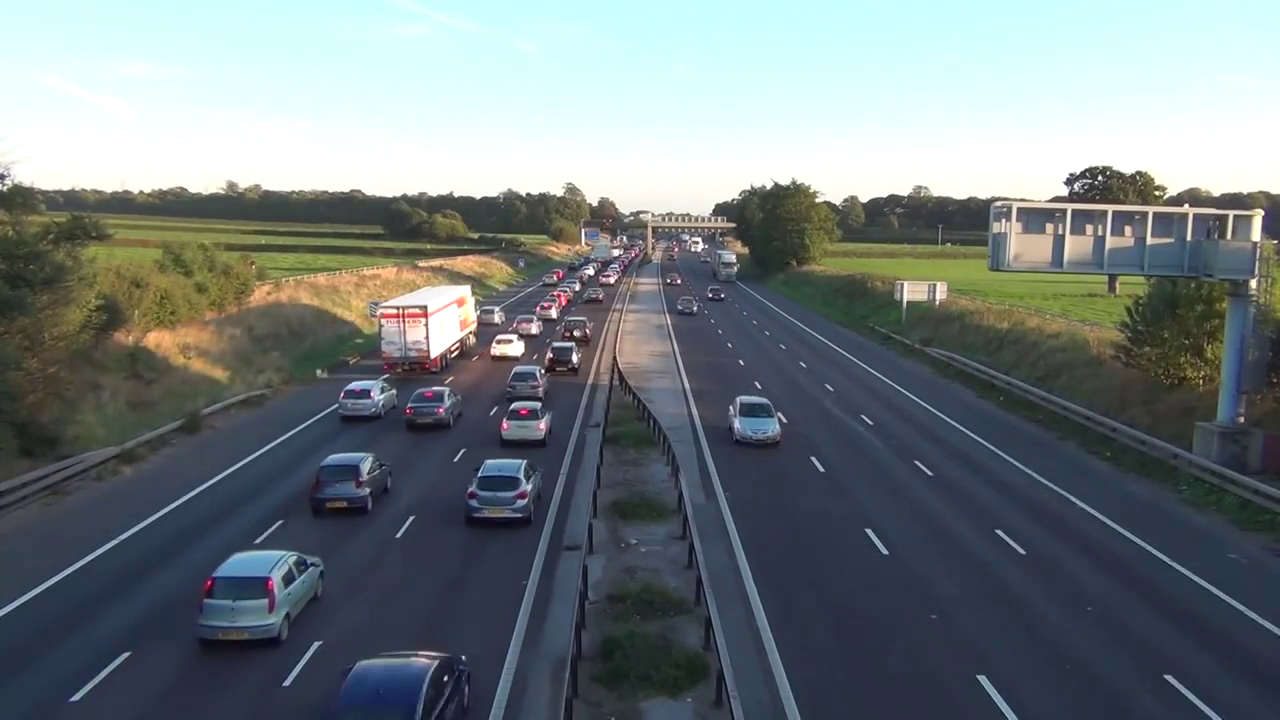Car: (180, 539, 331, 660), (326, 639, 466, 720), (454, 452, 547, 537), (307, 448, 398, 524), (721, 391, 786, 452), (329, 376, 400, 425), (409, 382, 471, 433), (494, 403, 553, 440), (502, 359, 549, 397), (555, 310, 600, 348), (543, 338, 583, 376), (473, 300, 515, 325), (672, 291, 701, 323), (492, 327, 523, 355)
License_Plate: (212, 624, 256, 639), (328, 499, 356, 511), (479, 505, 513, 514)
Truck: (369, 272, 494, 376)
